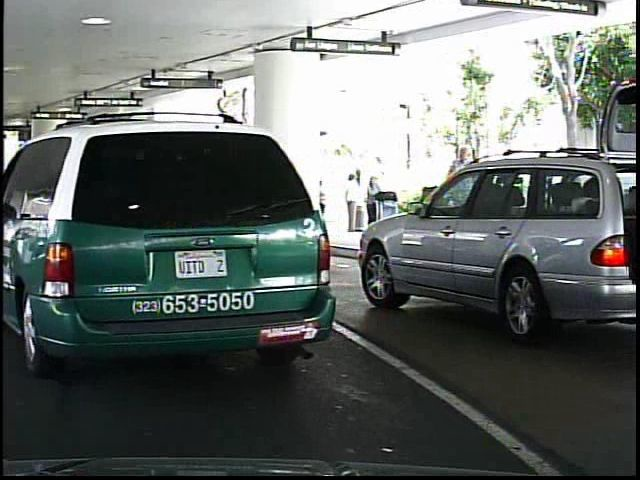person: (438, 140, 483, 266), (359, 170, 389, 241)
